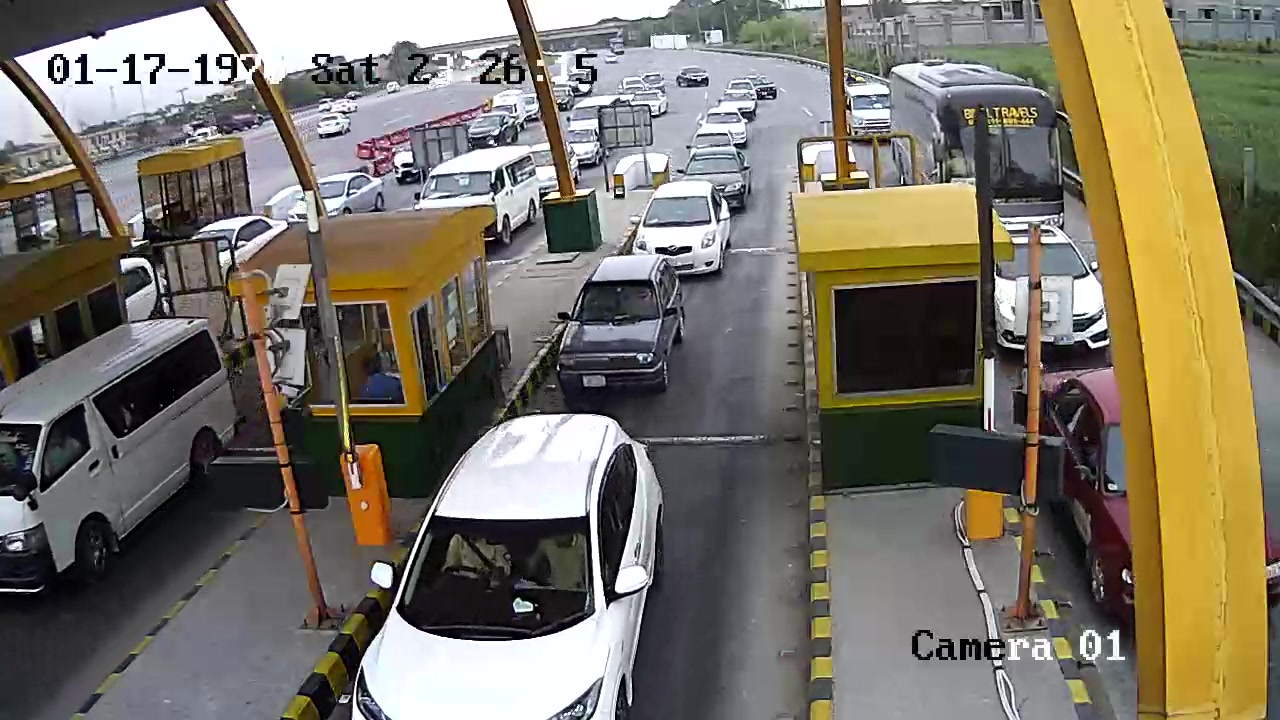F1: (552, 256, 683, 398)
